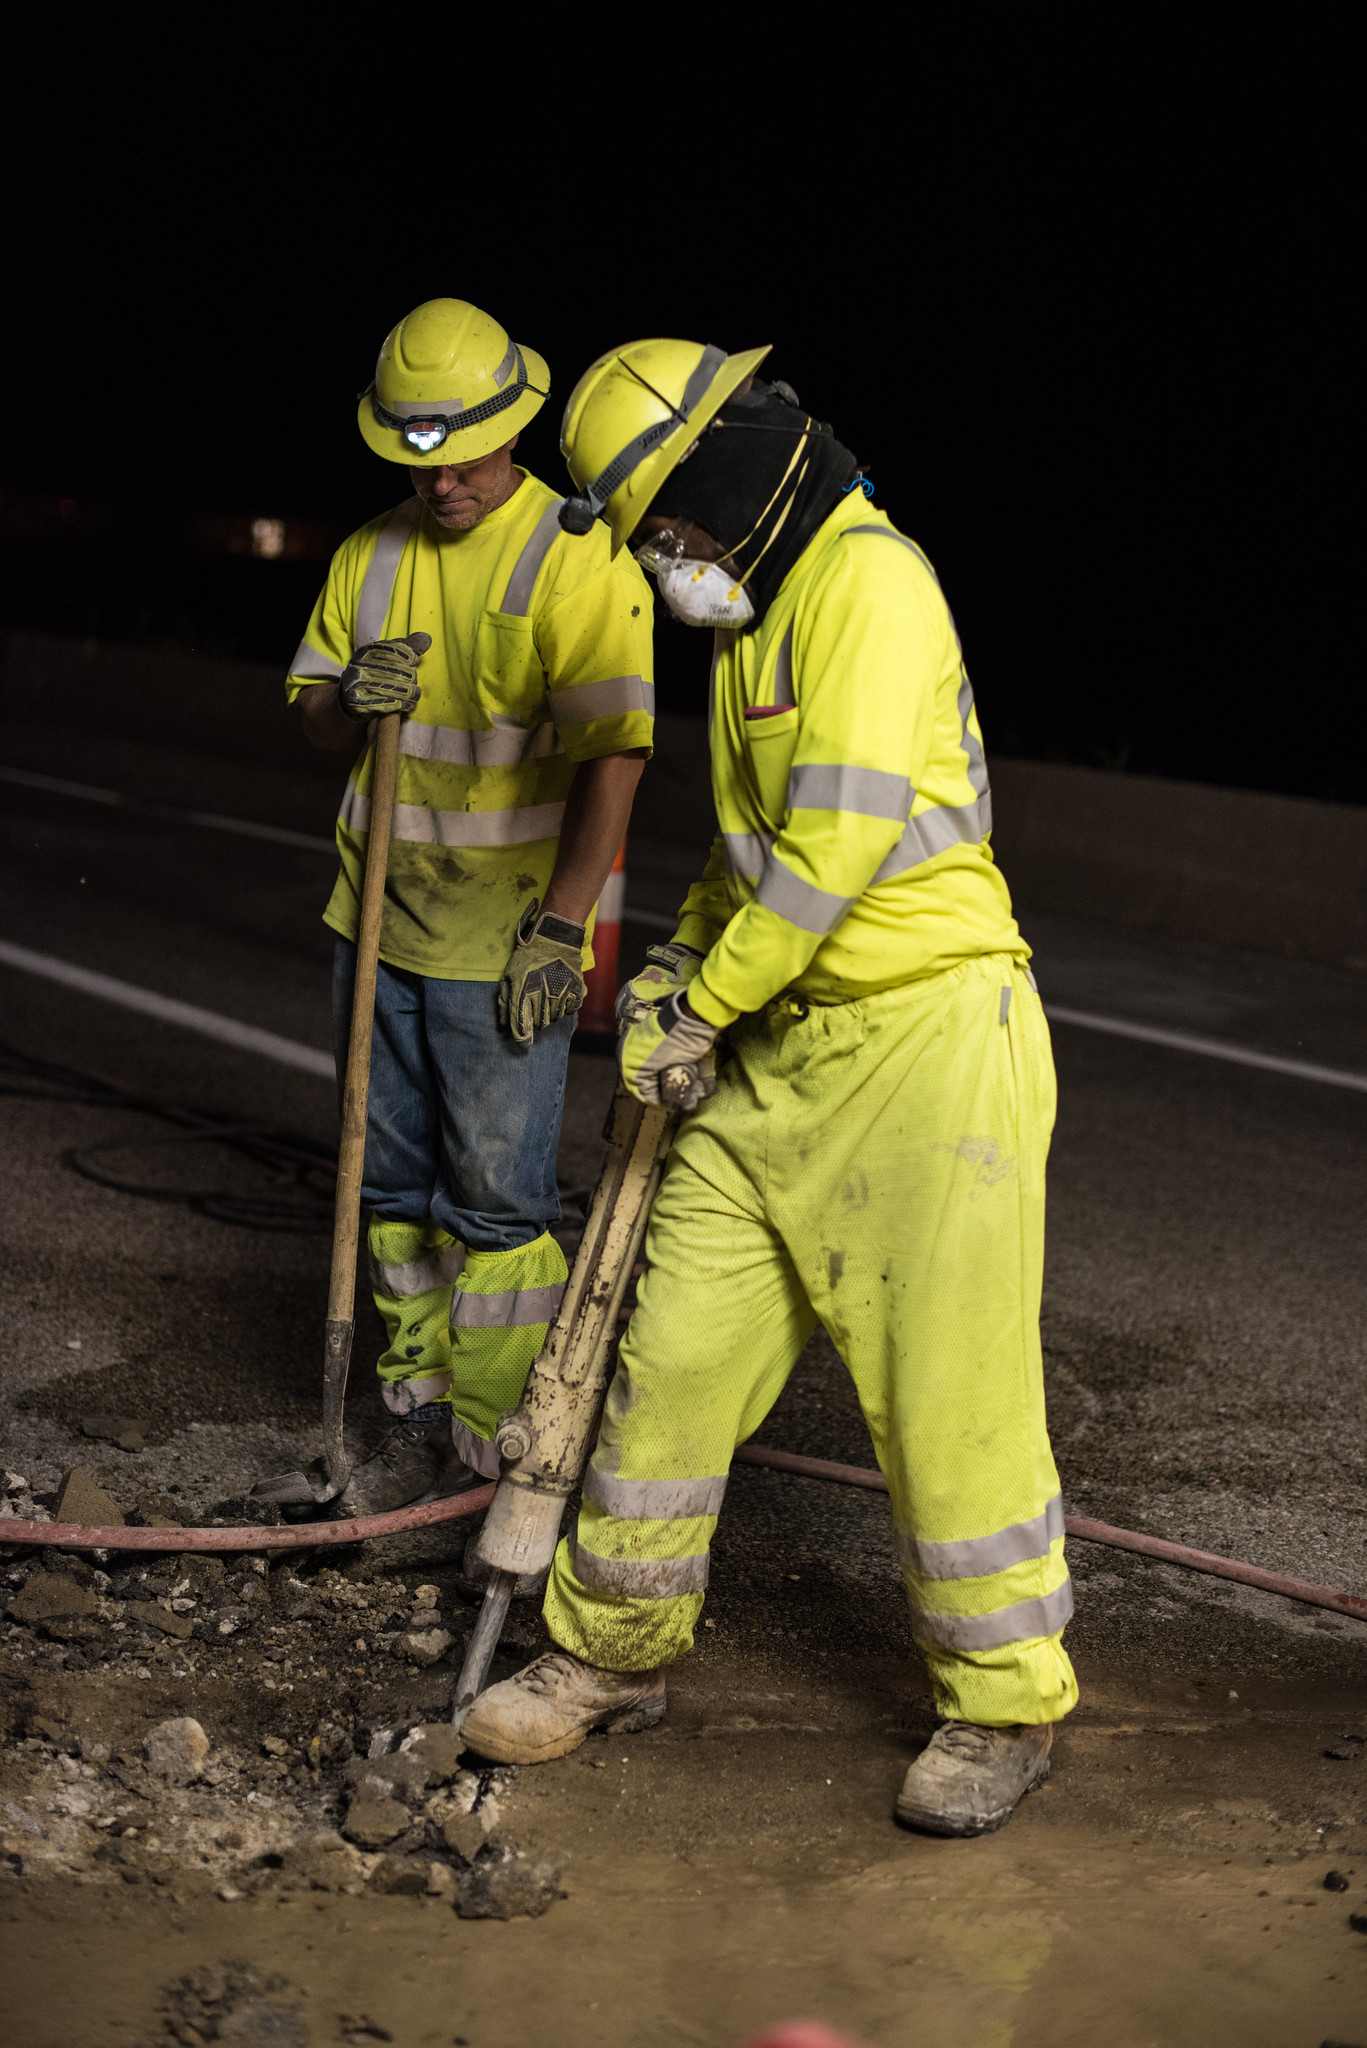Helmet: (323, 271, 561, 612), (545, 305, 787, 567)
Reflective vest: (662, 483, 1053, 1028), (278, 477, 677, 1005)
